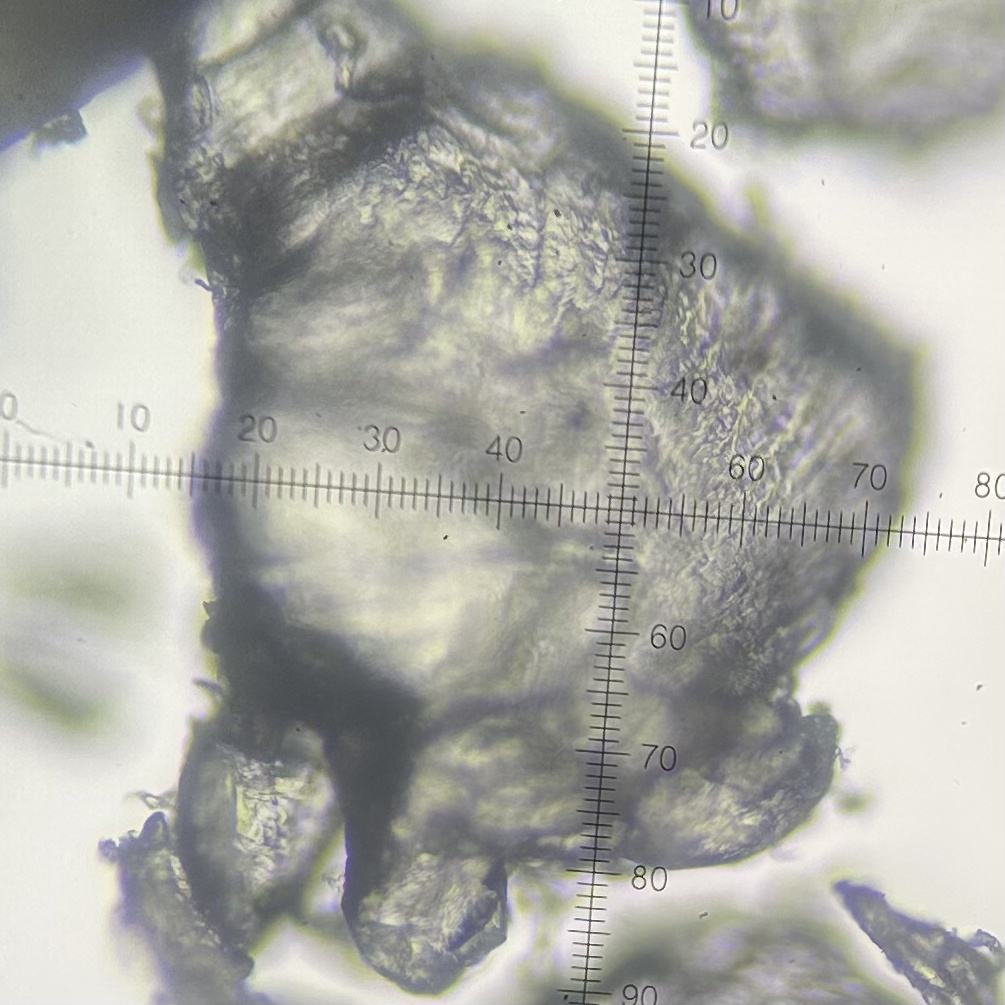microplastic: (195, 51, 924, 996), (144, 1, 428, 239), (166, 669, 345, 961), (674, 1, 1003, 143), (94, 805, 272, 1005), (557, 915, 903, 1005), (827, 879, 1005, 1002), (23, 102, 95, 169)
